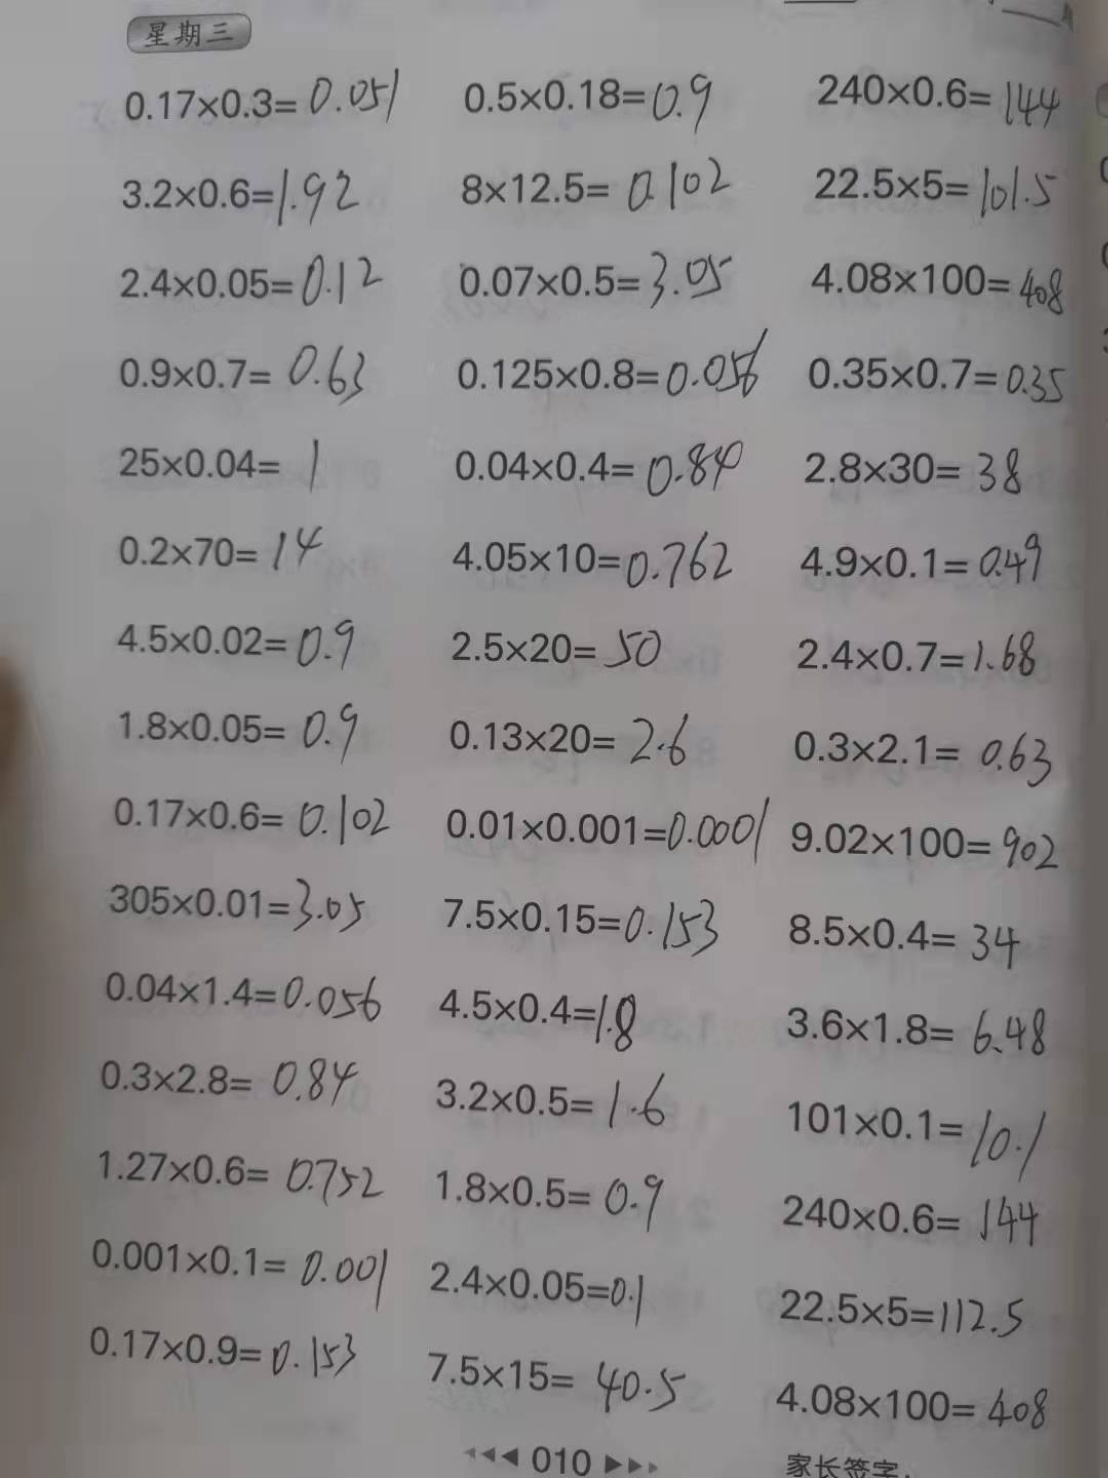equation: (83, 1223, 393, 1312), (448, 324, 775, 406), (779, 1084, 1056, 1177), (449, 425, 754, 507), (436, 800, 785, 868), (88, 1133, 390, 1209), (421, 1348, 692, 1432), (759, 1182, 1051, 1258), (769, 1363, 1059, 1439), (446, 239, 741, 313), (782, 713, 1054, 793), (449, 149, 743, 223), (442, 882, 720, 960), (777, 988, 1056, 1065), (107, 334, 378, 413), (803, 248, 1078, 325), (110, 52, 408, 123), (789, 807, 1056, 886), (795, 518, 1065, 596), (80, 1320, 364, 1394), (447, 524, 747, 594), (100, 866, 366, 943), (810, 61, 1072, 138), (94, 960, 390, 1028), (438, 701, 699, 778), (428, 1157, 667, 1241), (420, 970, 648, 1056), (113, 243, 385, 314), (108, 692, 366, 766), (104, 784, 402, 848), (112, 156, 366, 228), (809, 343, 1070, 412), (421, 1252, 654, 1329), (775, 1283, 1039, 1350), (790, 624, 1050, 692), (427, 1064, 678, 1134), (782, 908, 1036, 977), (443, 611, 670, 688), (806, 158, 1063, 225), (456, 66, 719, 131), (86, 1051, 359, 1112), (794, 436, 1039, 501), (104, 613, 366, 673), (111, 428, 338, 495), (105, 517, 332, 583)
